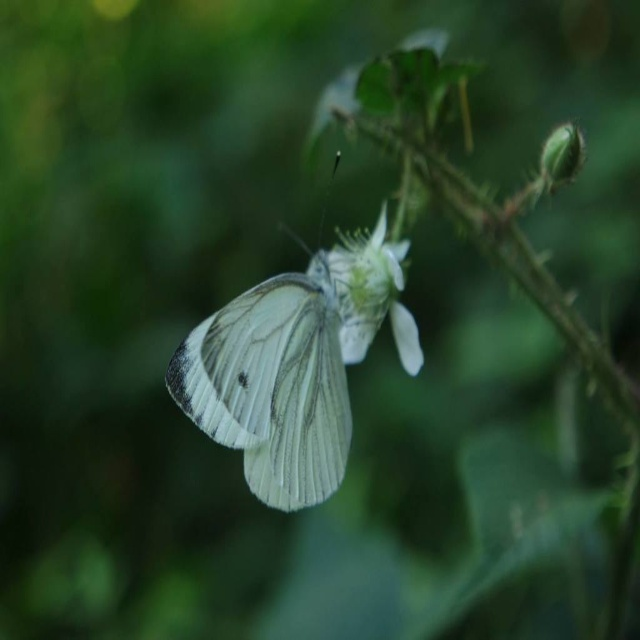Butterfly: (165, 150, 369, 514)
